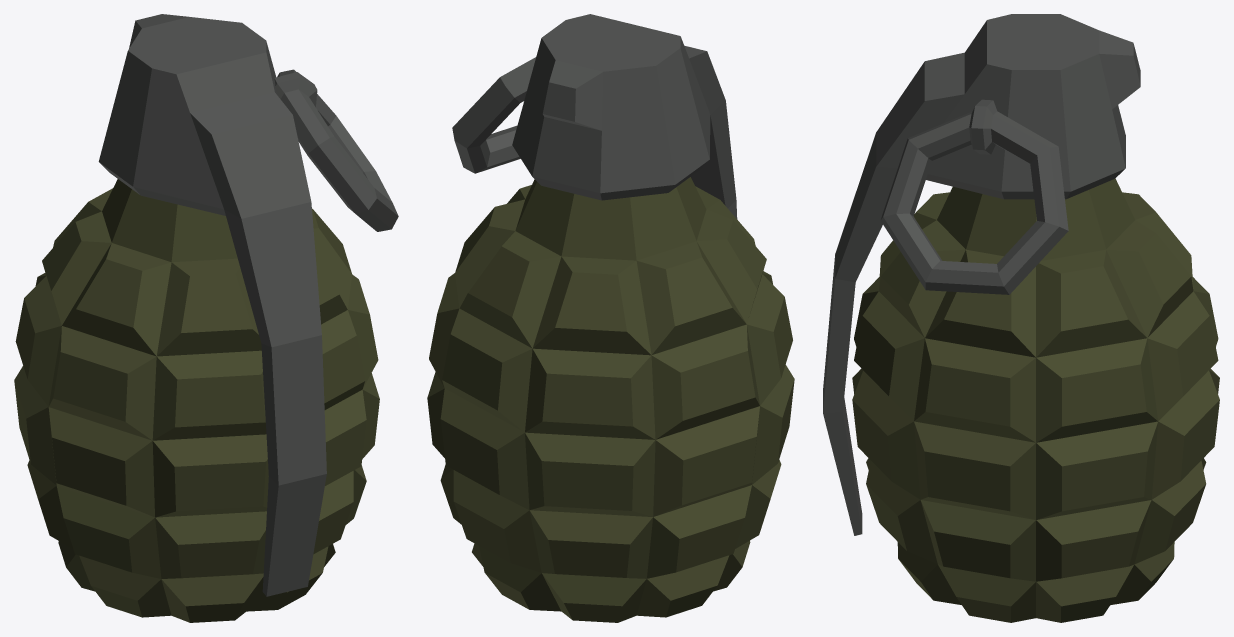
File: LPWarPack_FragGrenade.fbx
3 renders of one model, left to right at view 1: azimuth 30°, elevation 25°; view 2: azimuth 150°, elevation 25°; view 3: azimuth 270°, elevation 25°, orthographic.
Parts seen in each view (by area): view 1: FragGrenade; view 2: FragGrenade; view 3: FragGrenade.
Part boxes in pixels (x1=…): FragGrenade: x1=14, y1=14, x2=398, y2=622; FragGrenade: x1=427, y1=14, x2=794, y2=622; FragGrenade: x1=823, y1=14, x2=1219, y2=622.
Size of the model in its own units: 7.68 by 12.02 by 8.1.
